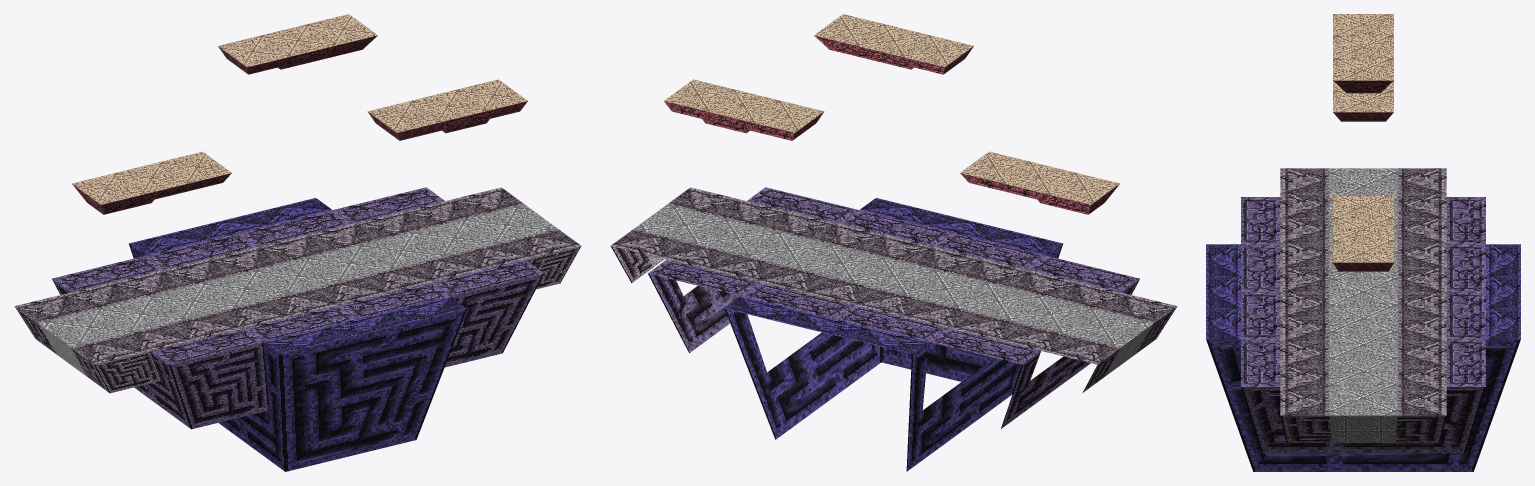
The model's file is fighting_polygon_stage.obj.
The picture shows the model from 3 angles, left to right: view 1: azimuth 30°, elevation 25°; view 2: azimuth 150°, elevation 25°; view 3: azimuth 270°, elevation 25°; orthographic projection. The views are drawn at different scales.
Visible parts, largest first — view 1: fighting_polygon_stage:platforms_bottom3; view 2: fighting_polygon_stage:platforms_bottom3; view 3: fighting_polygon_stage:platforms_bottom3.
Part boxes in pixels (bbox=[...]): fighting_polygon_stage:platforms_bottom3: bbox=[14, 14, 581, 471]; fighting_polygon_stage:platforms_bottom3: bbox=[610, 14, 1177, 471]; fighting_polygon_stage:platforms_bottom3: bbox=[1206, 14, 1520, 471].
Bounding box in the file's own units: 3.9 × 2.88 × 2.1.
Materials: 10 (10 with a texture image).
